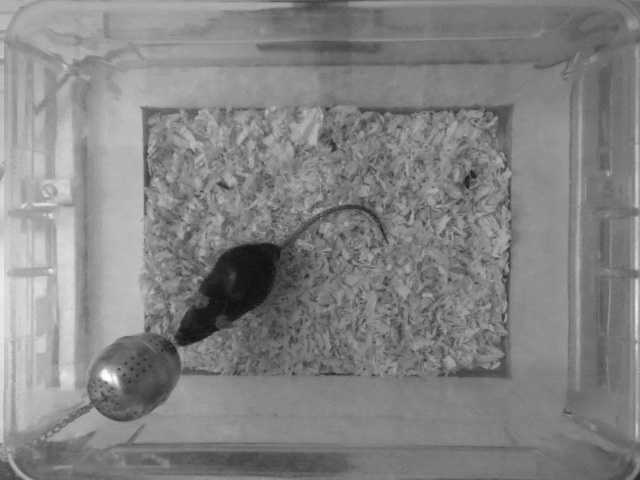mice: (171, 202, 386, 349)
